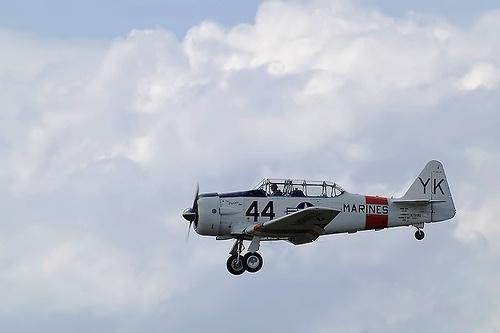aeroplane: (185, 160, 457, 277)
